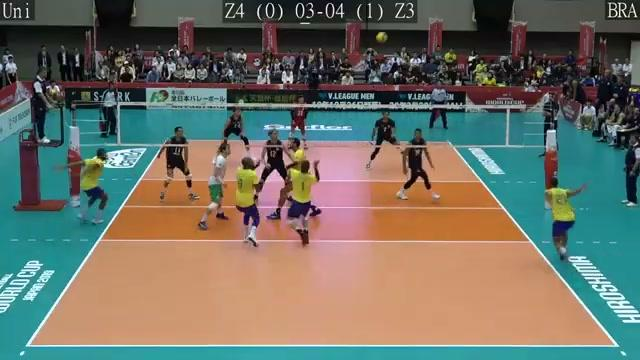ball: (374, 29, 391, 46)
